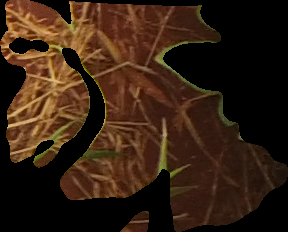soil: (1, 1, 287, 232)
